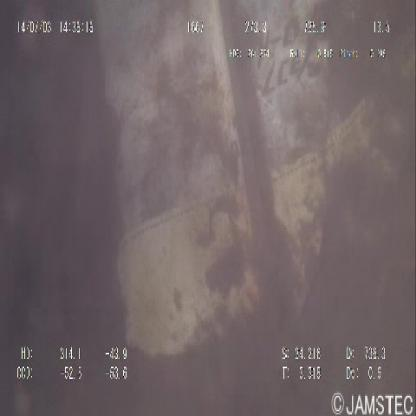Rác: (80, 1, 403, 380)
